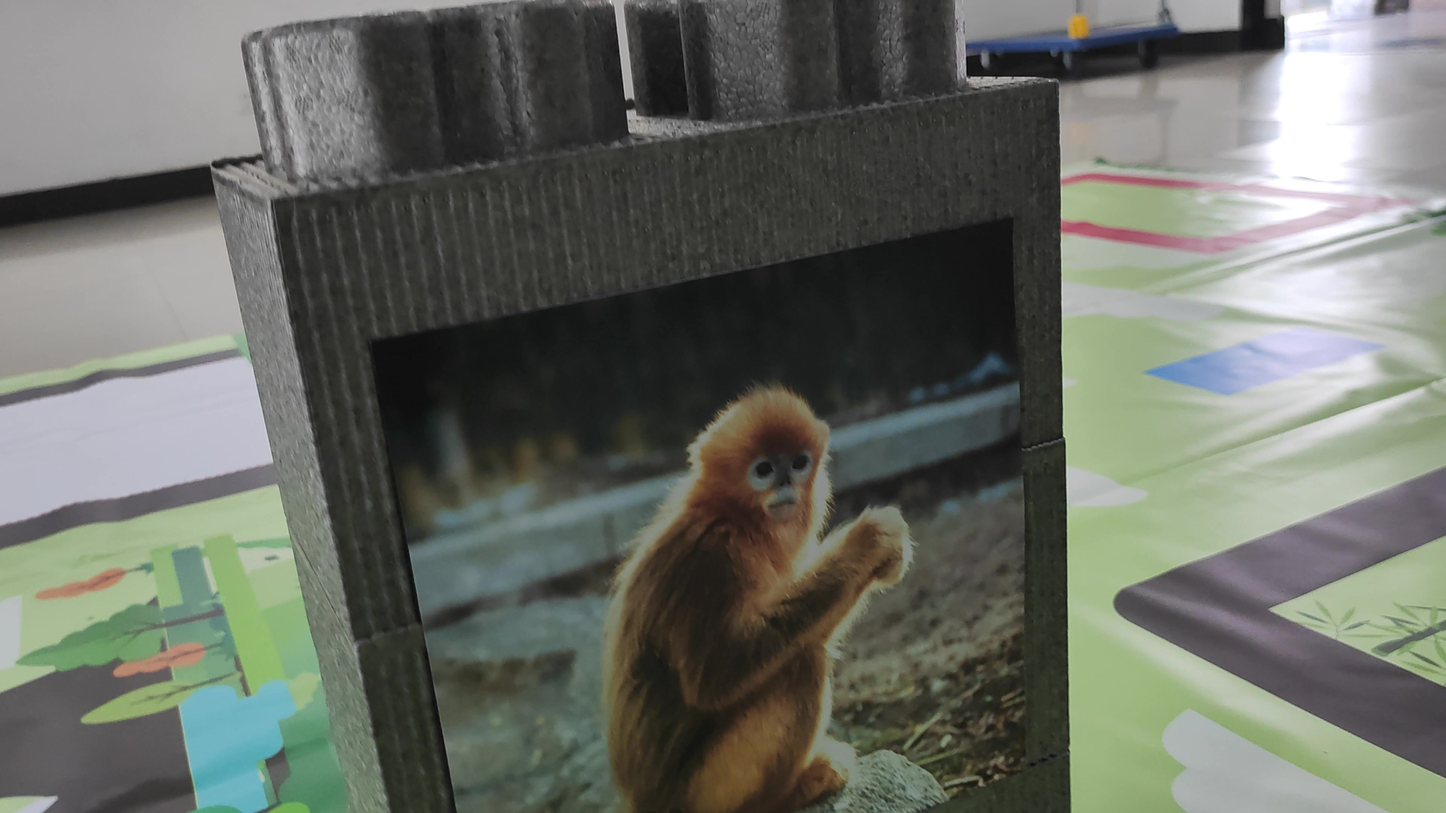monkey: (524, 312, 964, 797)
